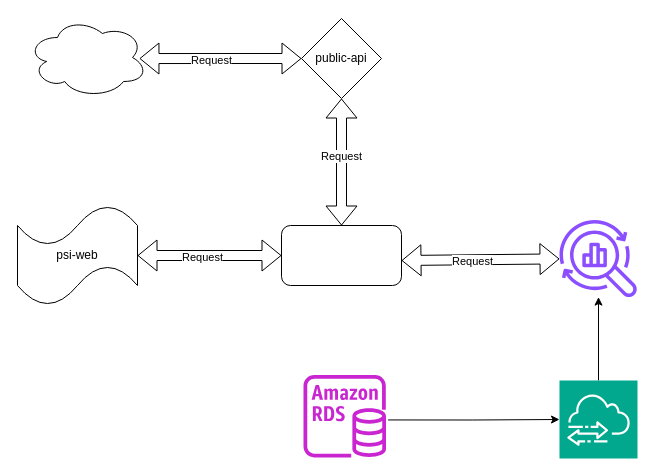
Some shapes in this 655 by 476 pixel diagram are drawn without their labels. The centre of each missing label's shape, as x and y in pixels:
"myQIMA" belongs at point (87, 57).
"psi-service" belongs at point (341, 255).
